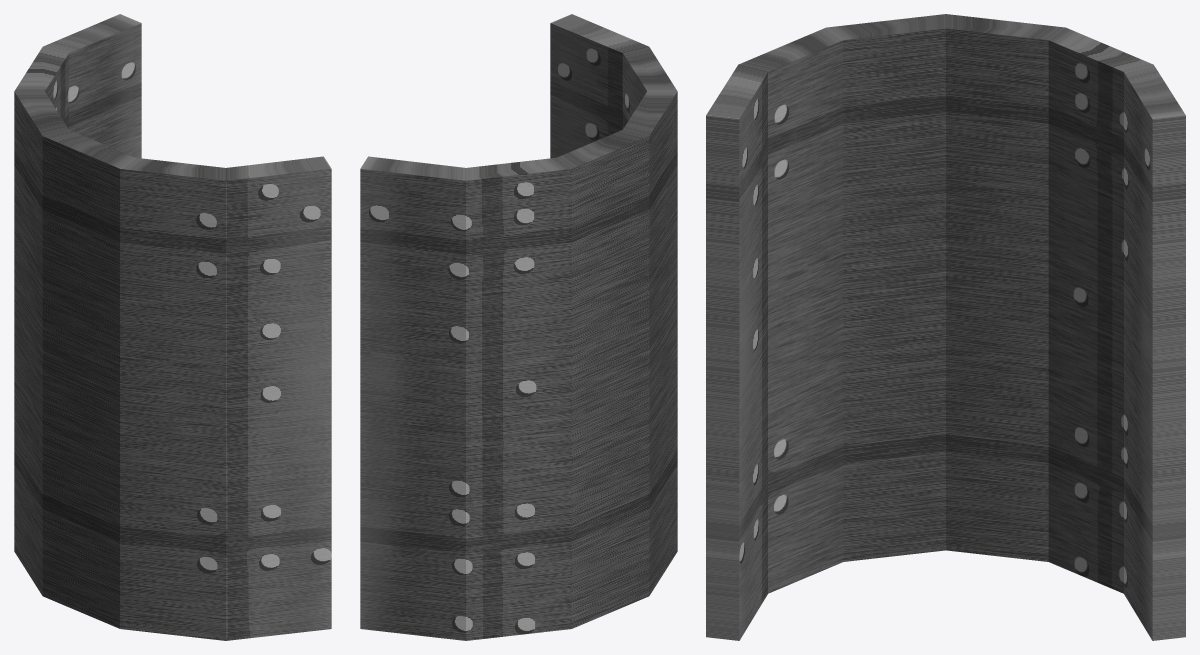
The model's file is tubo.fbx.
The picture shows the model from 3 angles, left to right: view 1: azimuth 30°, elevation 25°; view 2: azimuth 150°, elevation 25°; view 3: azimuth 270°, elevation 25°; orthographic projection. The views are drawn at different scales.
Visible parts, largest first — view 1: Cylinder; view 2: Cylinder; view 3: Cylinder.
Part boxes in pixels (x1=…): Cylinder: x1=14, y1=14, x2=331, y2=640; Cylinder: x1=360, y1=14, x2=677, y2=640; Cylinder: x1=706, y1=14, x2=1185, y2=640.
Size of the model in its own units: 130 by 300 by 250.
1 material, 1 textured.
